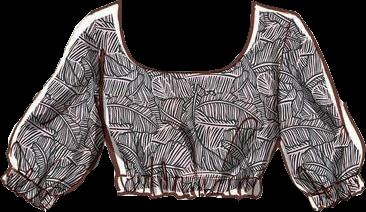Bodice: (92, 0, 291, 199)
Neckline: (119, 1, 253, 73)
Sleeve: (0, 11, 105, 211), (277, 11, 365, 211)
Sleeveline: (8, 166, 60, 199), (277, 11, 295, 99), (306, 170, 360, 197), (90, 10, 104, 105)
Waistline: (116, 193, 261, 200)
